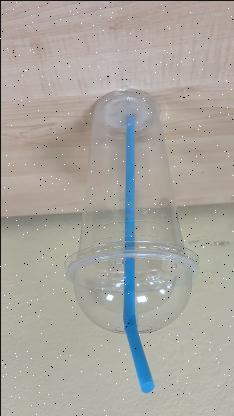Others: (63, 91, 198, 360)
